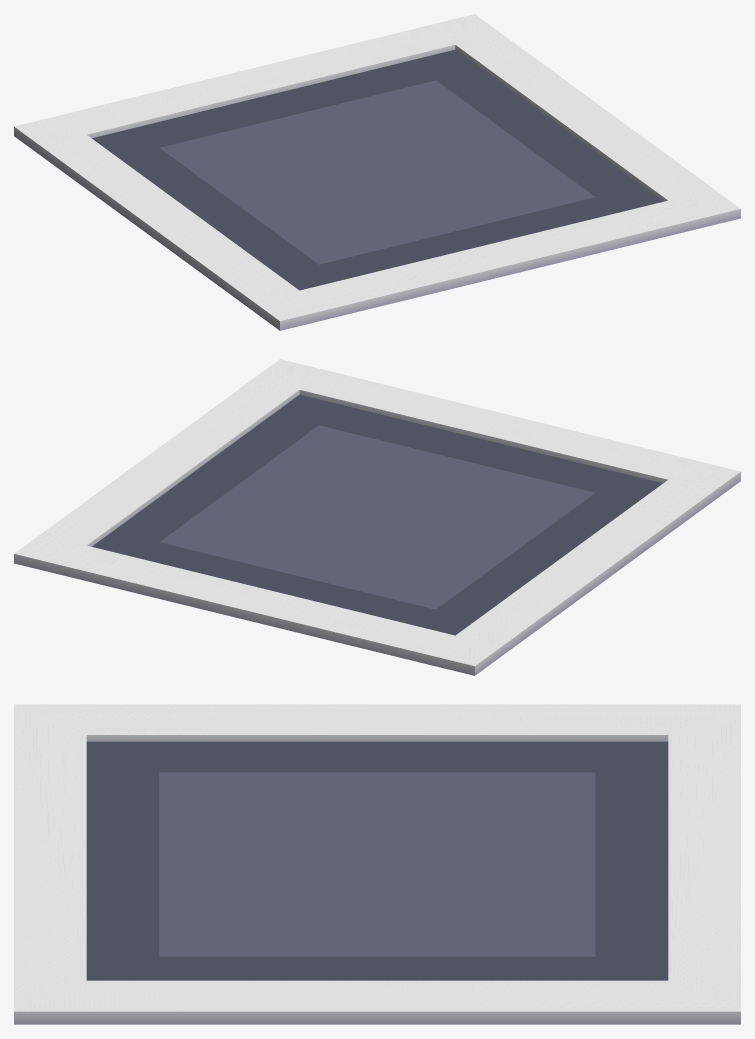
The model's file is road-square.glb.
3 views of the same model, one above another, from view 1: azimuth 30°, elevation 25°; view 2: azimuth 150°, elevation 25°; view 3: azimuth 270°, elevation 25° (orthographic). The views are drawn at different scales.
Visible parts, largest first — view 1: road-square; view 2: road-square; view 3: road-square.
Part boxes in pixels (bbox=[...]): road-square: bbox=[14, 14, 740, 330]; road-square: bbox=[14, 359, 740, 675]; road-square: bbox=[14, 704, 740, 1024].
Size of the model in its own units: 1 by 0.02 by 1.
Materials: 1 (1 with a texture image).
